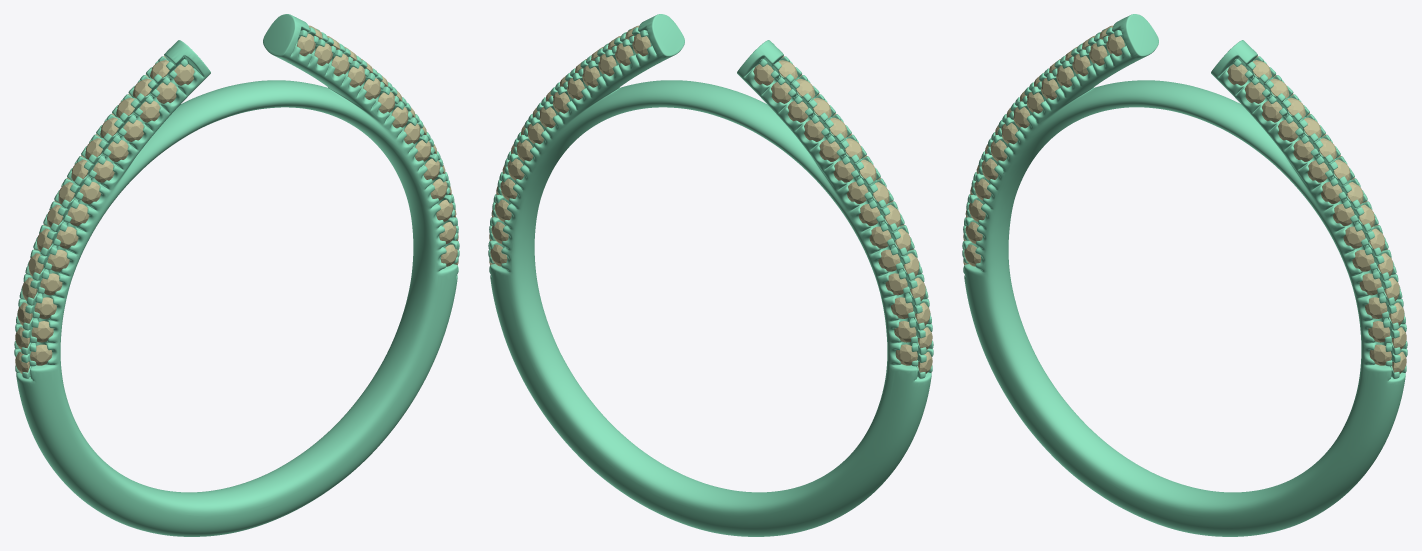
The picture shows the model from 3 angles, left to right: view 1: azimuth 30°, elevation 25°; view 2: azimuth 150°, elevation 25°; view 3: azimuth 330°, elevation 25°; orthographic projection.
Visible parts, largest first — view 1: Metal02; view 2: Metal02; view 3: Metal02.
Boxes of the visible parts, x1=… form: Metal02: x1=14, y1=14, x2=459, y2=536; Metal02: x1=488, y1=14, x2=933, y2=536; Metal02: x1=962, y1=14, x2=1407, y2=536.
Size of the model in its own units: 20.84 by 22.81 by 1.87.
